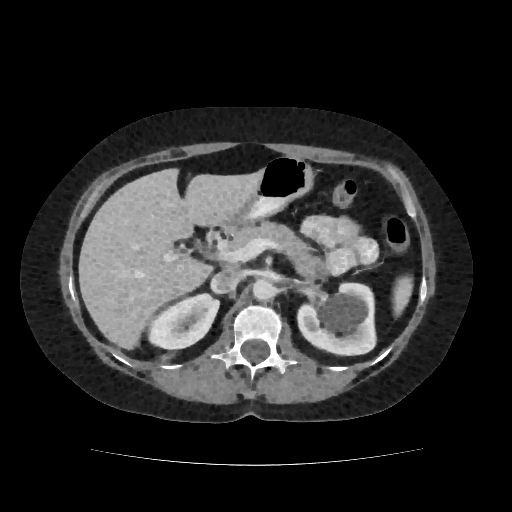Lesion: (311, 289, 368, 338)
